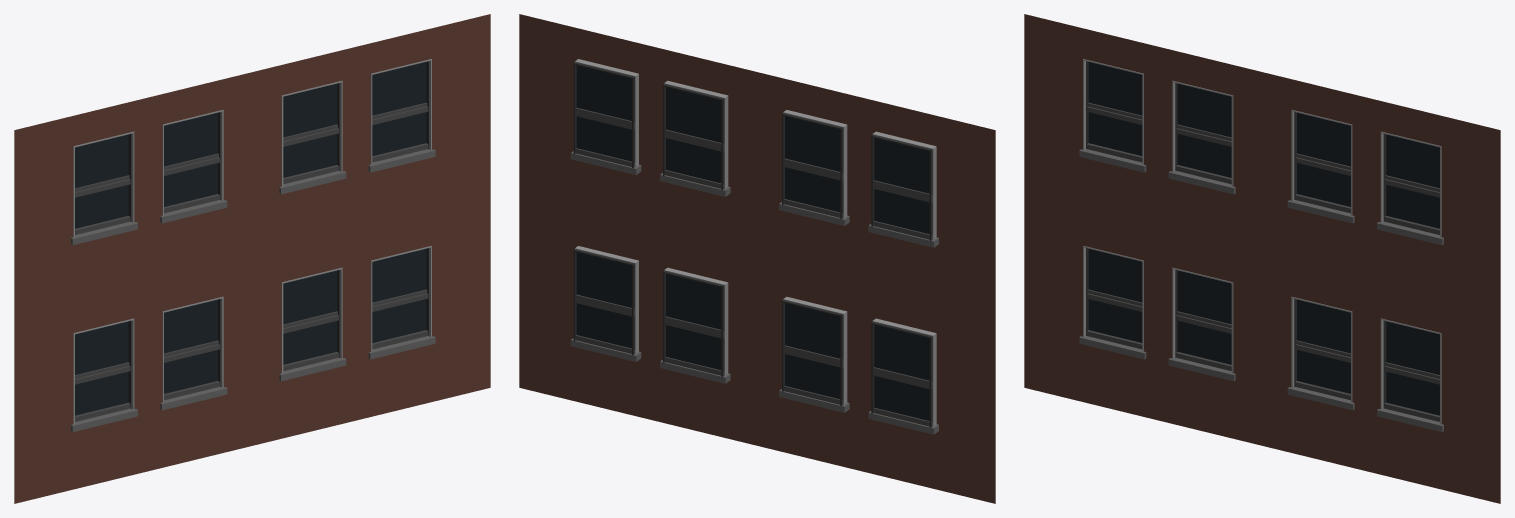
File: Building5_Side2.fbx
3 views of the same model, side by side, from view 1: azimuth 30°, elevation 25°; view 2: azimuth 150°, elevation 25°; view 3: azimuth 330°, elevation 25° (orthographic).
Parts seen in each view (by area): view 1: Cube.001; view 2: Cube.001; view 3: Cube.001.
Part boxes in pixels (left/top/right/bottom): Cube.001: left=14, top=14, right=490, bottom=503; Cube.001: left=519, top=14, right=995, bottom=503; Cube.001: left=1024, top=14, right=1500, bottom=503.
Bounding box in the file's own units: 1600 × 1200 × 40.
